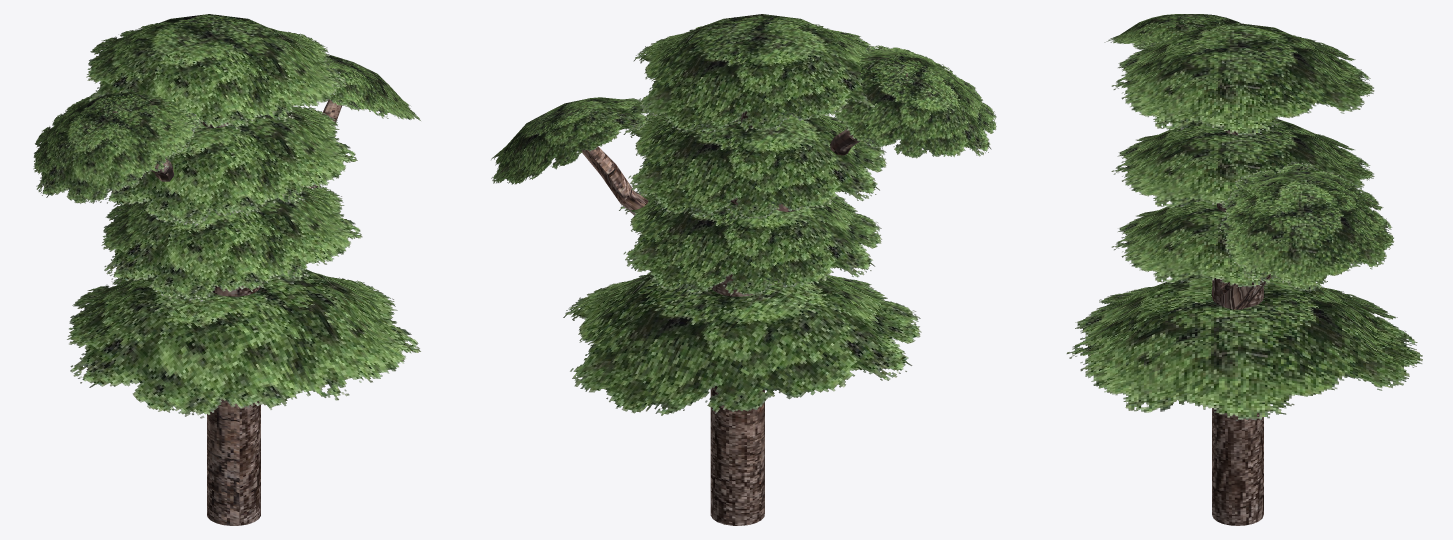
File: Tree.fbx
3 views of the same model, side by side, from view 1: azimuth 30°, elevation 25°; view 2: azimuth 150°, elevation 25°; view 3: azimuth 270°, elevation 25° (orthographic). The views are drawn at different scales.
Parts seen in each view (by area): view 1: pDisc1, pDisc3, pDisc2, pDisc6, pDisc4, pCylinder1, pDisc5; view 2: pDisc1, pDisc3, pDisc6, pDisc2, pDisc4, pCylinder1, pDisc5; view 3: pDisc1, pDisc3, pDisc5, pDisc6, pDisc2, pCylinder1, pDisc4.
Boxes of the visible parts, x1,y1,x2,y2 form: pDisc1: (67,268,420,418); pDisc3: (86,14,347,131); pDisc2: (101,184,362,301); pDisc6: (105,106,357,225); pDisc4: (33,91,201,203); pCylinder1: (112,36,342,525); pDisc5: (317,54,420,120); pDisc1: (563,272,921,415); pDisc3: (633,14,874,133); pDisc6: (623,113,886,219); pDisc2: (619,192,882,295); pDisc4: (831,45,996,158); pCylinder1: (582,36,907,525); pDisc5: (491,97,650,184); pDisc1: (1066,274,1422,420); pDisc3: (1111,23,1374,135); pDisc5: (1217,162,1394,291); pDisc6: (1111,119,1374,207); pDisc2: (1111,198,1361,287); pCylinder1: (1188,15,1271,525); pDisc4: (1104,14,1240,47).
Size of the model in its own units: 10.46 by 8.6 by 10.84.
Materials: 2 (2 with a texture image).
